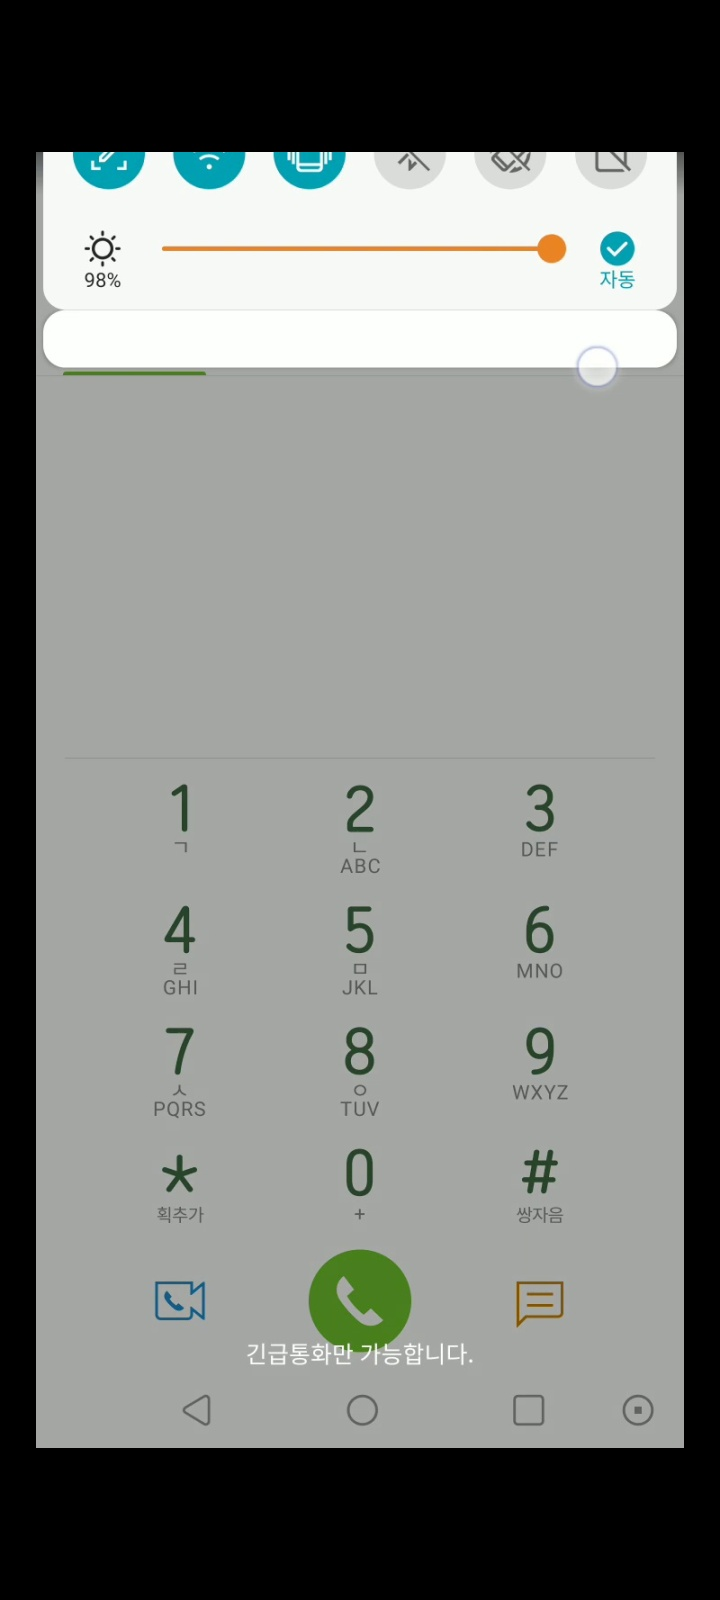Cursor: (576, 344, 621, 389)
